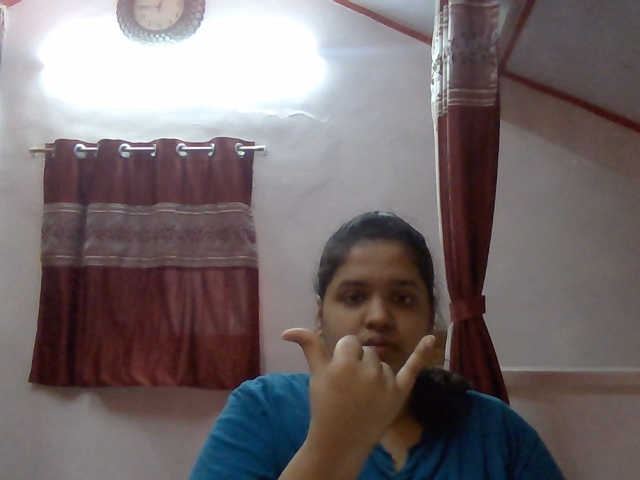y: (246, 307, 462, 432)
